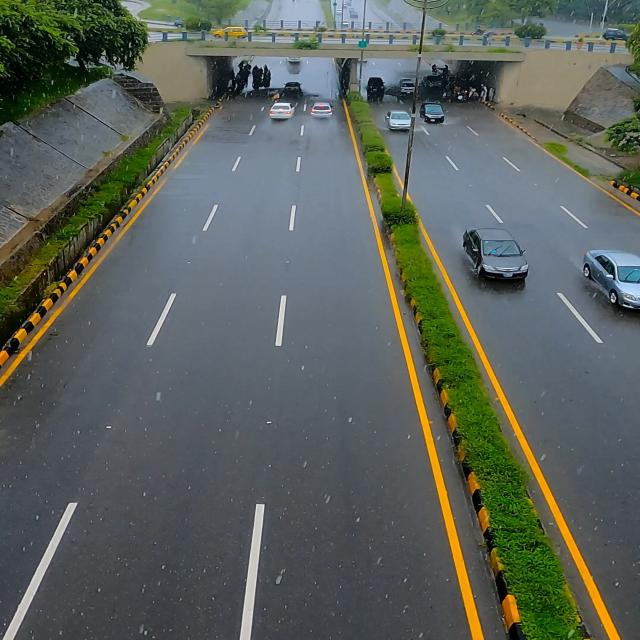Car: (461, 223, 530, 289), (580, 243, 640, 317), (265, 99, 301, 122), (385, 108, 416, 132)
